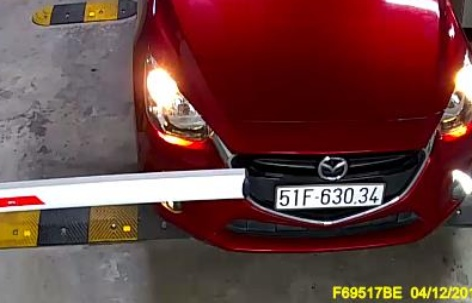plate: (274, 181, 384, 211)
